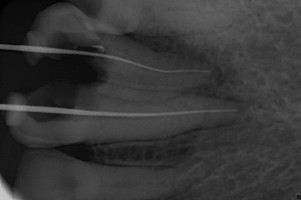Dental Caries: (128, 33, 246, 105)
